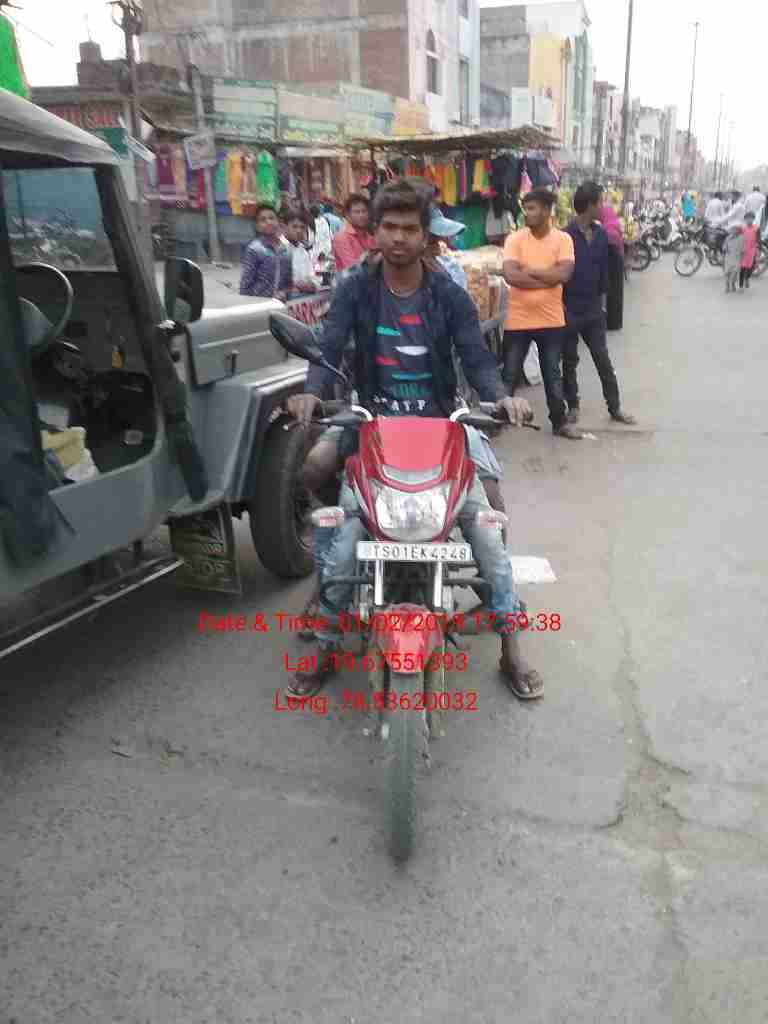plate: (349, 536, 477, 574)
